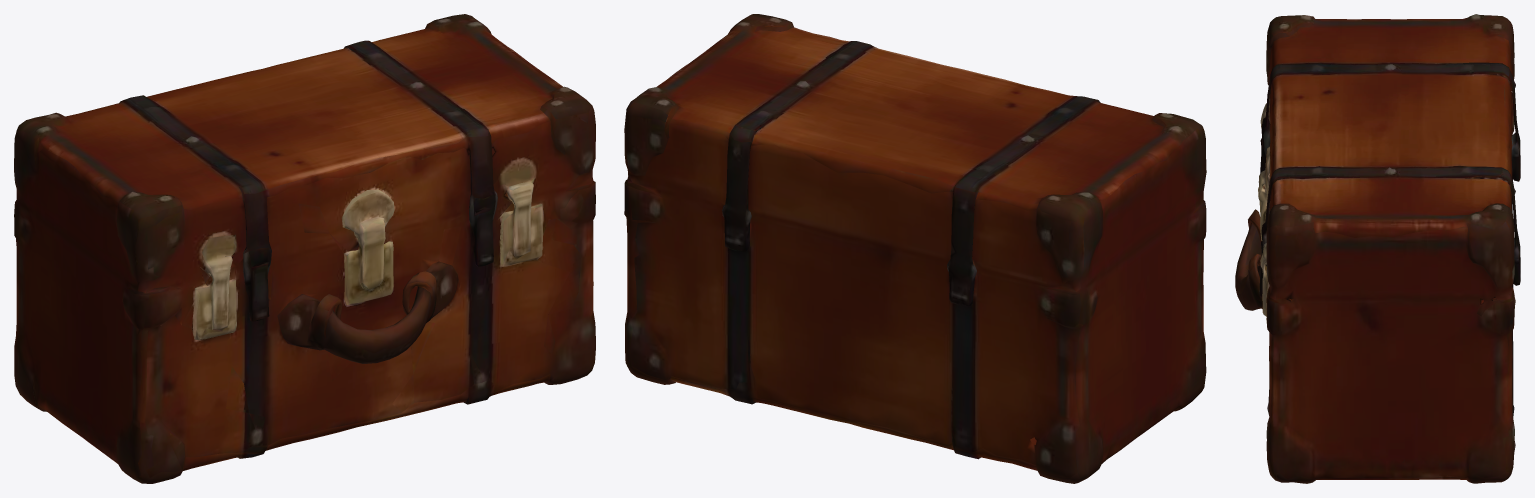
Rendered from baul.glb.
3 renders of one model, left to right at view 1: azimuth 30°, elevation 25°; view 2: azimuth 150°, elevation 25°; view 3: azimuth 270°, elevation 25°, orthographic. The views are drawn at different scales.
Visible parts, largest first — view 1: geometry_0; view 2: geometry_0; view 3: geometry_0.
Boxes of the visible parts, x1,y1,x2,y2 form: geometry_0: (14,14,595,483); geometry_0: (624,14,1206,483); geometry_0: (1235,14,1520,483).
Bounding box in the file's own units: 0.85 × 0.5 × 0.48.
1 material, 1 textured.
